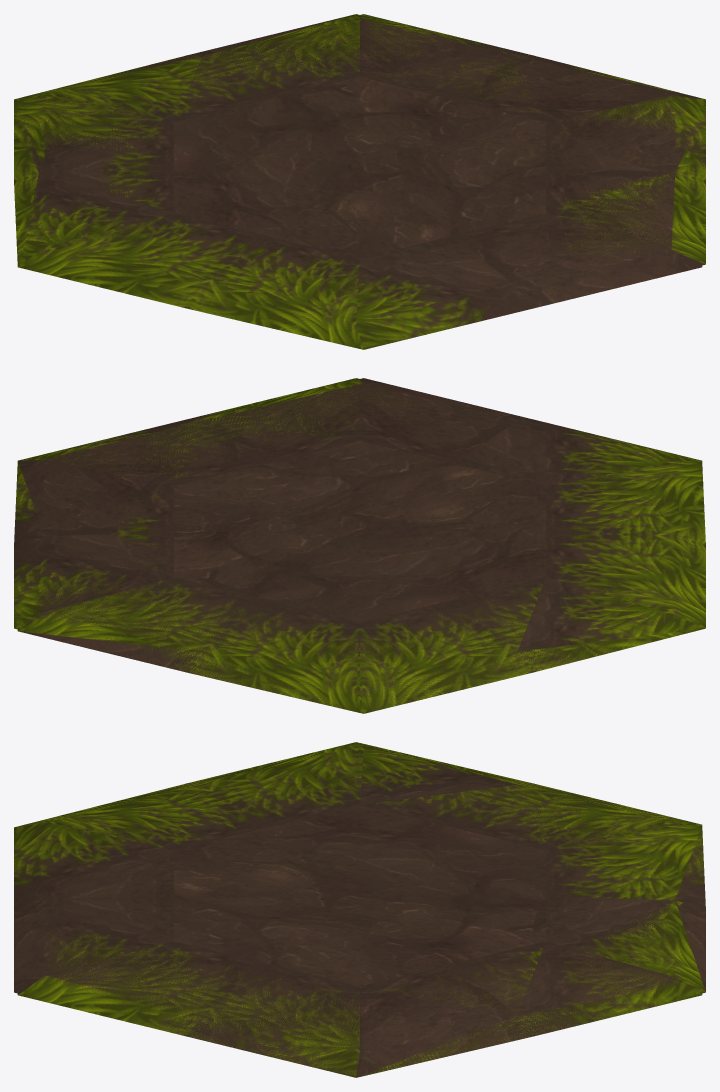
File: PathTile.Multi.fbx
3 renders of one model, top to bottom at view 1: azimuth 30°, elevation 25°; view 2: azimuth 150°, elevation 25°; view 3: azimuth 270°, elevation 25°, orthographic.
Parts seen in each view (by area): view 1: Path.Tripple.A, Path.Tripple.B, Path.Tripple.C, Path.Quad.B, Path.Tripple.D, Path.Quad.D, Path.Quad.A, Path.Quad.C, Path.Quint.A; view 2: Path.Tripple.A, Path.Tripple.C, Path.Tripple.B, Path.Quad.C, Path.Quad.B, Path.Tripple.D, Path.Quint.A, Path.Quad.A, Path.Quad.D; view 3: Path.Tripple.A, Path.Quad.C, Path.Tripple.B, Path.Tripple.D, Path.Quad.B, Path.Tripple.C, Path.Quad.A, Path.Quad.D, Path.Quint.A.
Boxes of the visible parts, box(x1,y1,x2,y2) form: Path.Tripple.A: box(14, 14, 702, 349); Path.Tripple.B: box(41, 14, 701, 348); Path.Tripple.C: box(14, 14, 357, 285); Path.Quad.B: box(39, 14, 704, 196); Path.Tripple.D: box(22, 14, 705, 264); Path.Quad.D: box(117, 22, 705, 284); Path.Quad.A: box(45, 14, 541, 168); Path.Quad.C: box(14, 15, 705, 265); Path.Quint.A: box(18, 16, 399, 266); Path.Tripple.A: box(14, 378, 705, 713); Path.Tripple.C: box(17, 532, 697, 713); Path.Tripple.B: box(14, 385, 694, 712); Path.Quad.C: box(18, 378, 678, 712); Path.Quad.B: box(18, 460, 542, 688); Path.Tripple.D: box(14, 378, 362, 711); Path.Quint.A: box(32, 549, 705, 681); Path.Quad.A: box(18, 490, 510, 710); Path.Quad.D: box(52, 384, 506, 707); Path.Tripple.A: box(14, 742, 703, 1077); Path.Quad.C: box(17, 757, 705, 1077); Path.Tripple.B: box(14, 786, 704, 1076); Path.Tripple.D: box(18, 826, 701, 1076); Path.Quad.B: box(356, 785, 705, 1077); Path.Tripple.C: box(206, 744, 705, 993); Path.Quad.A: box(365, 786, 705, 1014); Path.Quad.D: box(19, 830, 705, 1062); Path.Quint.A: box(356, 742, 673, 977).
Size of the model in its own units: 10.75 by 0.2135 by 9.36.
